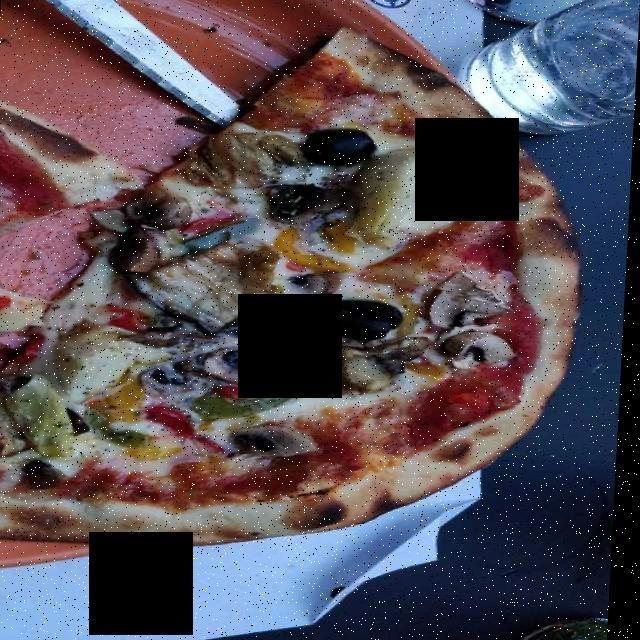pizza: (3, 40, 582, 538)
